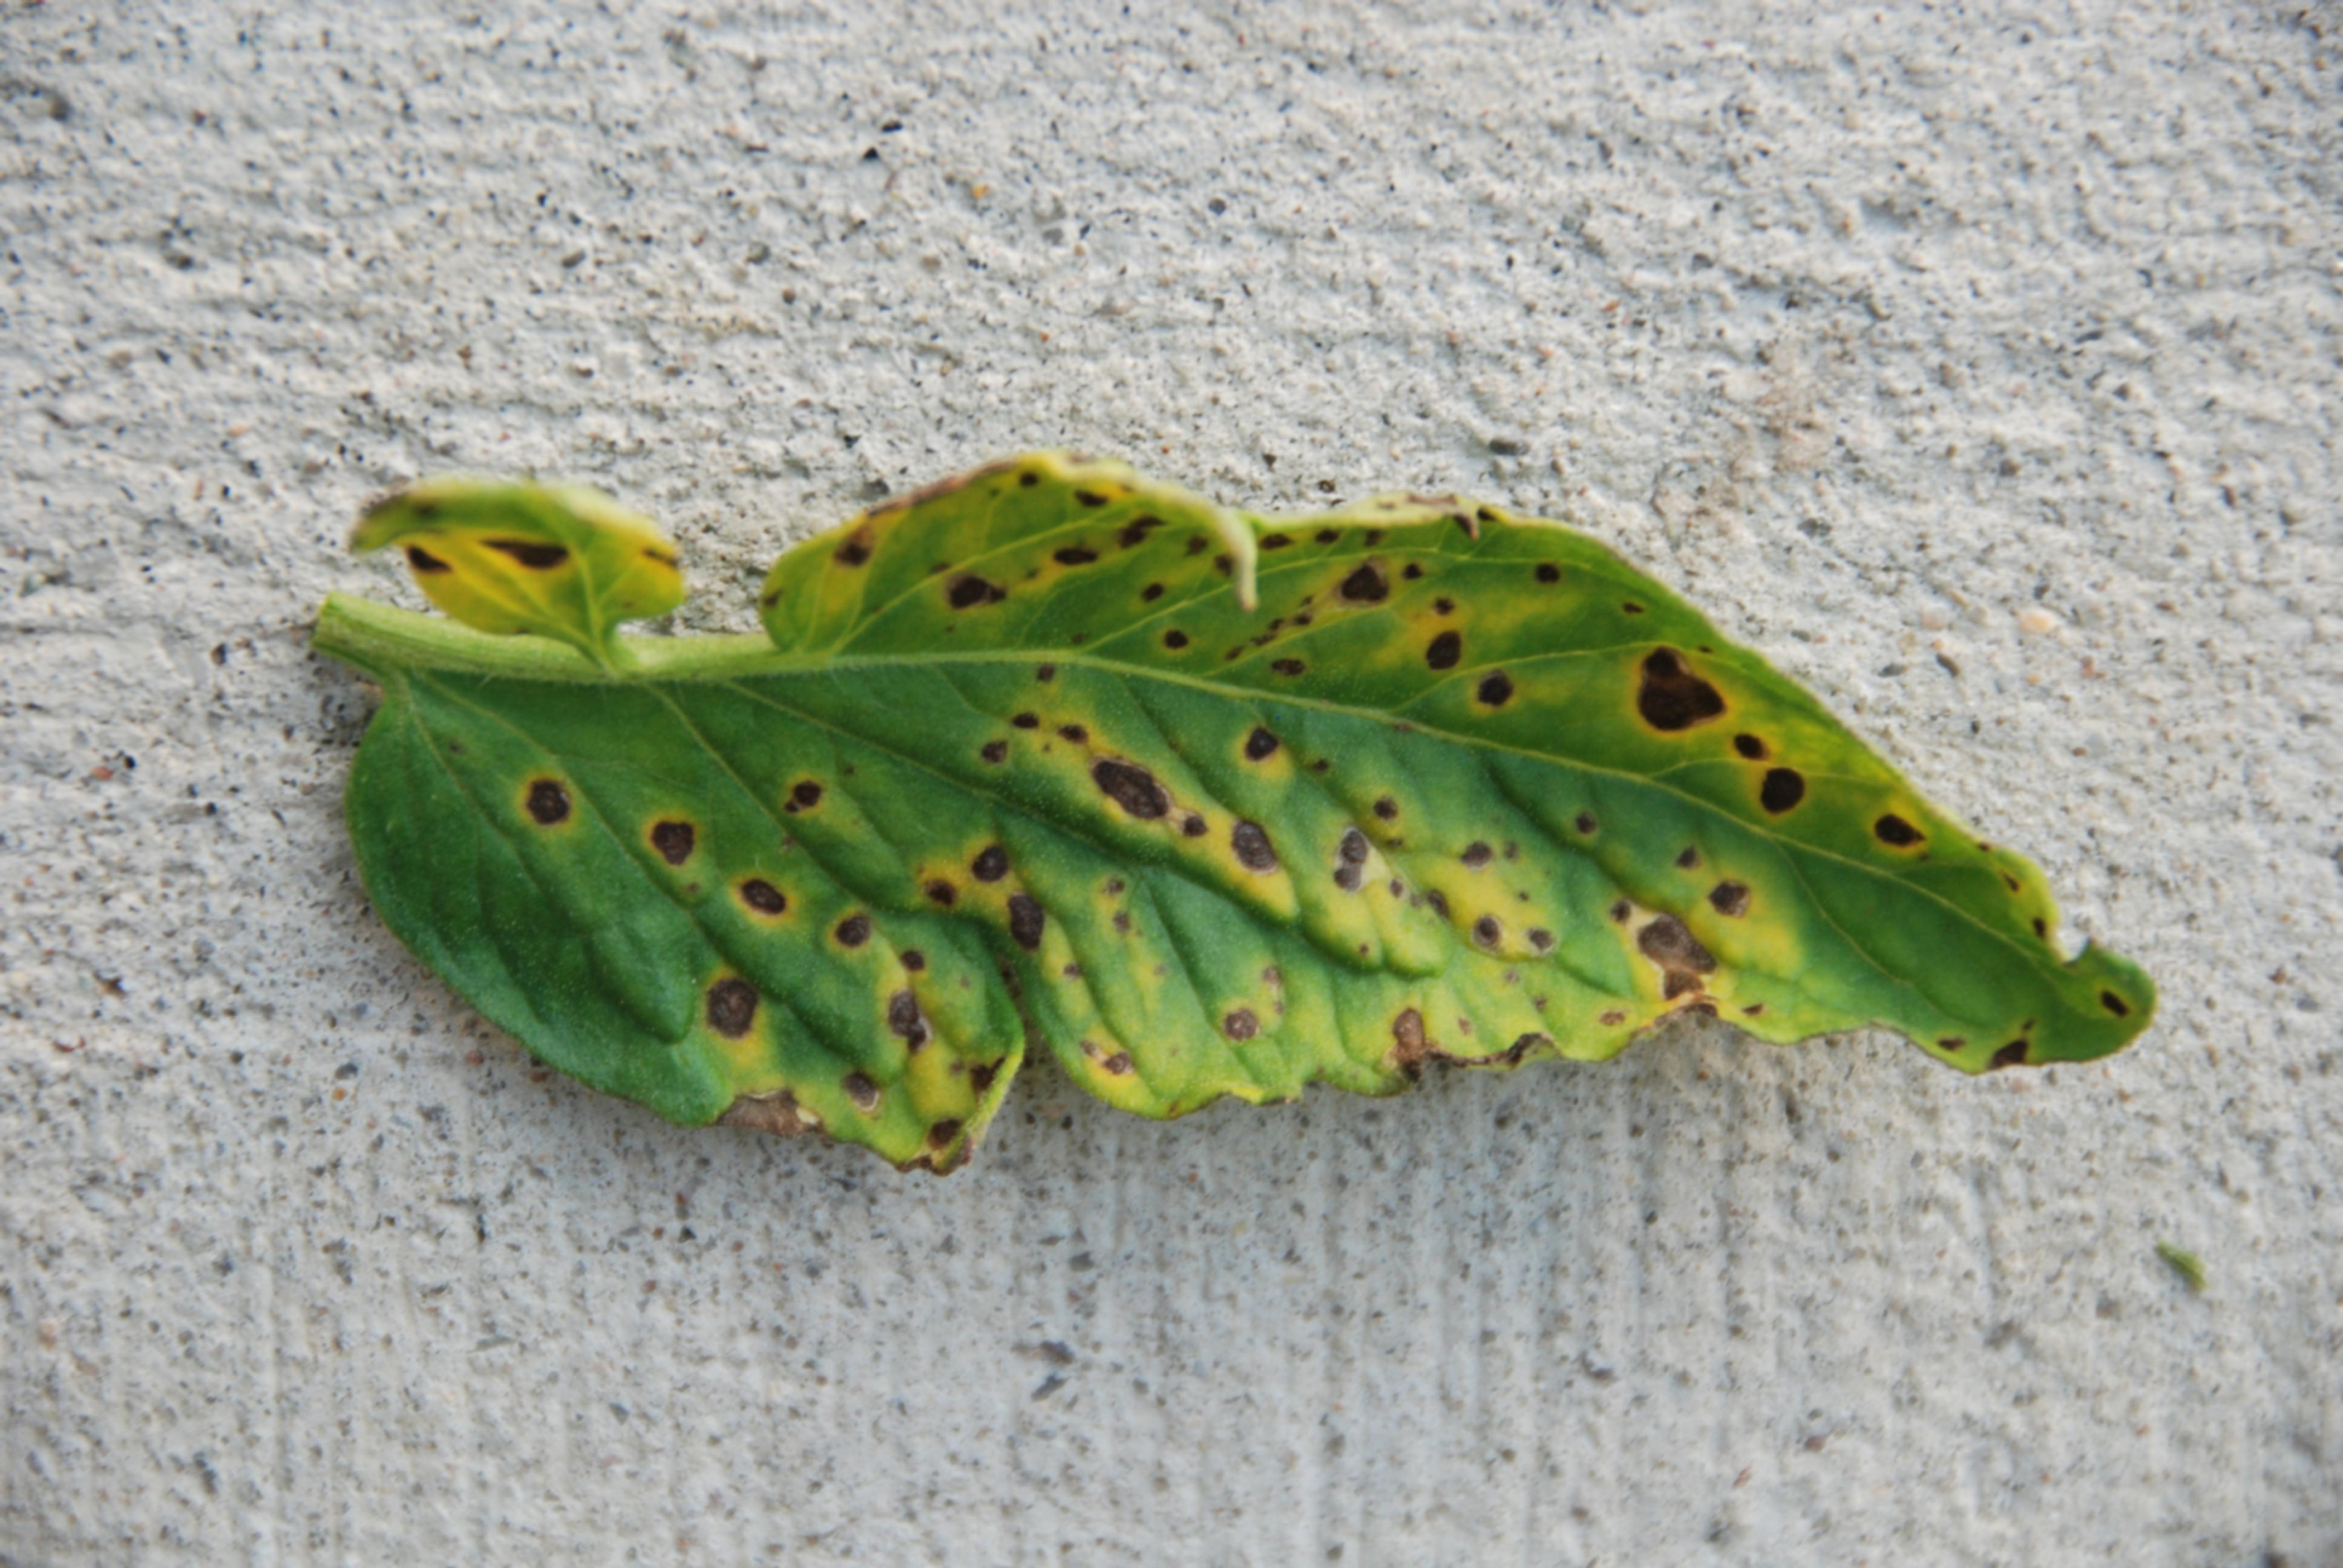Tomato Early blight leaf: (336, 441, 2177, 1162)
